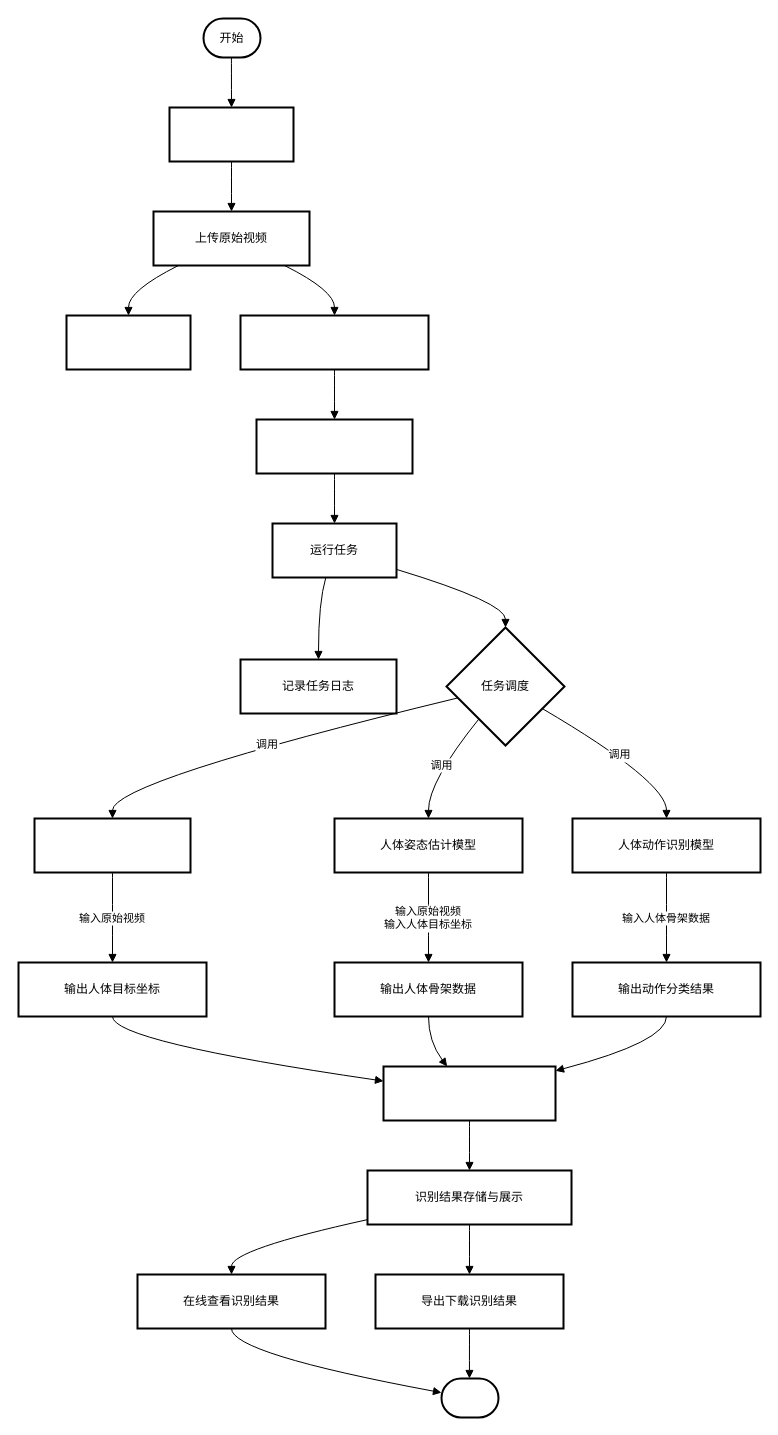
The diagram is 778 pixels wide and 1435 high, and some of its shapes have lost their labels. Here are the shapes that lost their labels. From the top down, the box of each, then its label:
(168, 106, 294, 162): 用户登录
(65, 314, 191, 370): 数据存储
(239, 314, 429, 370): 创建动作识别任务
(255, 418, 413, 474): 配置任务参数
(33, 817, 191, 873): 目标检测模型
(382, 1065, 556, 1121): 生成可视化视频
(440, 1377, 499, 1418): 结束
